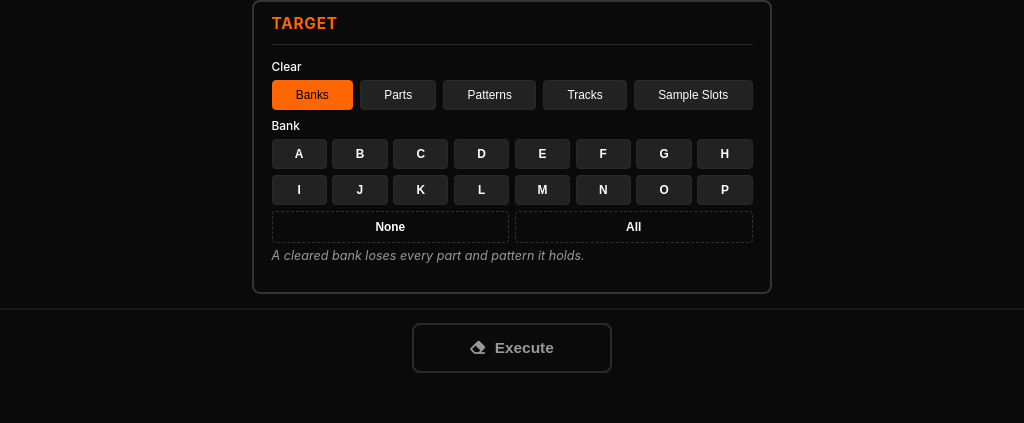
Test: ClearProjectPanel - select all / none › None clears the bank selection again
The width and height of the screenshot is (1024, 423).
Step 1. Click the button "All" → click(634, 227), box [515,211,752,243]
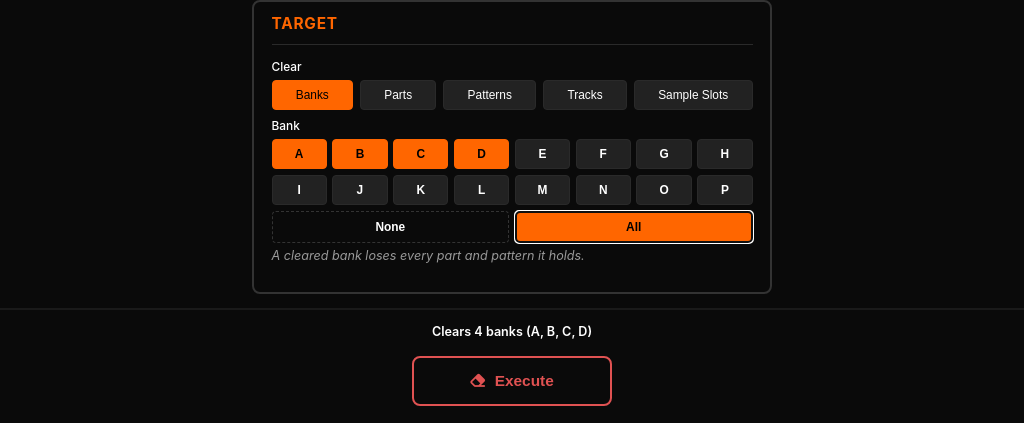
Expected: the button "Execute" is enabled, [412,356,612,406]
Step 2. Click the button "None" → click(390, 227), box [272,211,509,243]
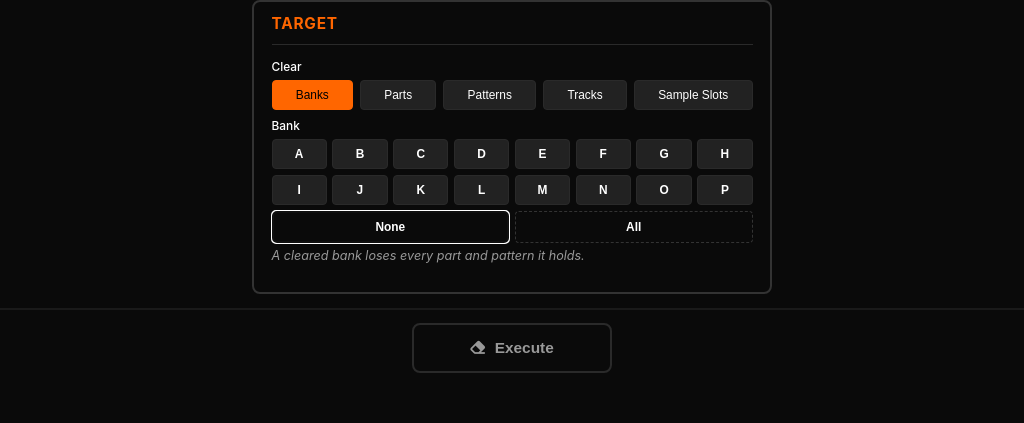
Expected: the button "Execute" is disabled, [412,323,612,373]
